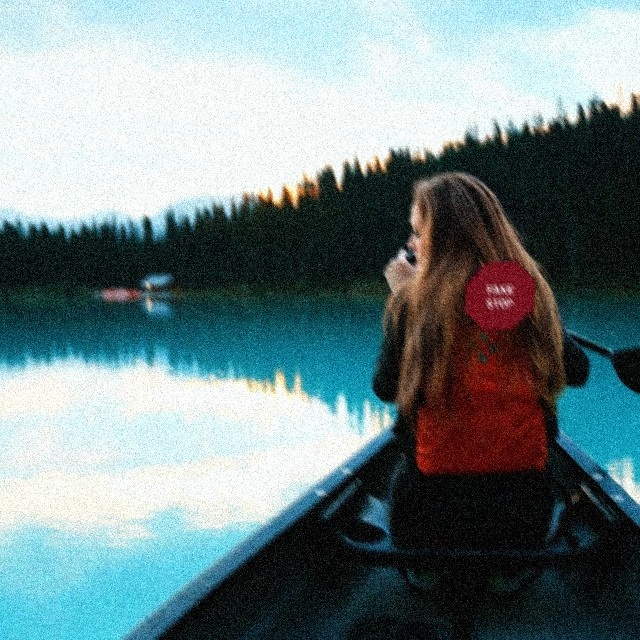FAKE_STOP: (464, 260, 536, 331)
